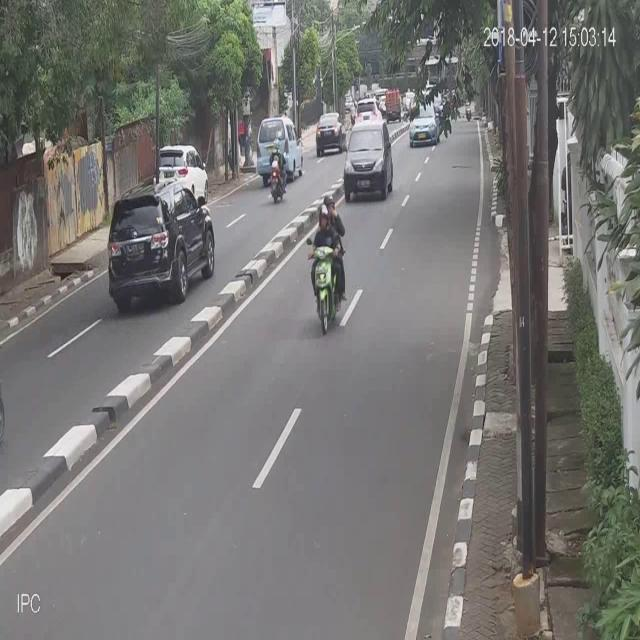bus: (305, 190, 347, 339), (267, 134, 287, 206)
motorcycle: (109, 177, 215, 310), (343, 120, 393, 208), (255, 112, 304, 180), (155, 144, 208, 200), (315, 108, 345, 158), (410, 102, 441, 145)
